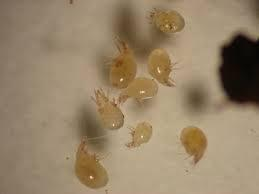insect: (66, 133, 113, 191), (86, 84, 128, 133), (100, 36, 138, 88), (143, 3, 190, 39), (144, 45, 180, 91), (175, 123, 209, 169), (115, 77, 160, 108), (123, 119, 155, 152)
